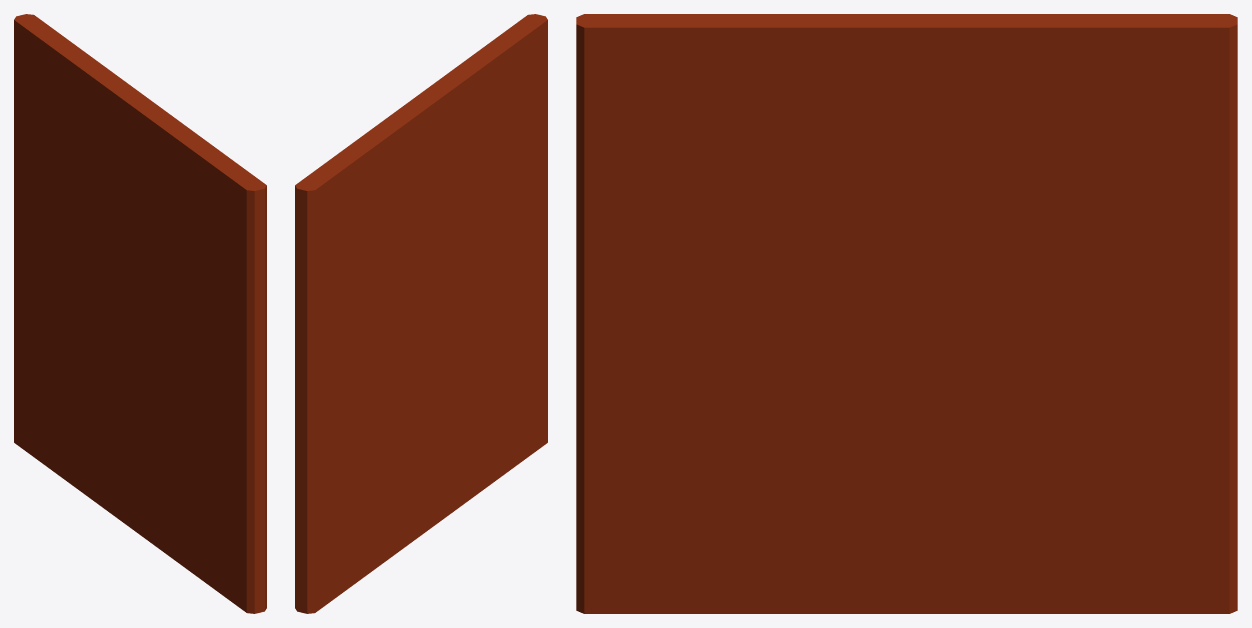
The model's file is Wall_2_1.fbx.
The picture shows the model from 3 angles, left to right: view 1: azimuth 30°, elevation 25°; view 2: azimuth 150°, elevation 25°; view 3: azimuth 270°, elevation 25°; orthographic projection. The views are drawn at different scales.
Visible parts, largest first — view 1: Wall/2_1; view 2: Wall/2_1; view 3: Wall/2_1.
Part boxes in pixels (x1=…): Wall/2_1: x1=14, y1=14, x2=266, y2=613; Wall/2_1: x1=295, y1=14, x2=547, y2=613; Wall/2_1: x1=576, y1=14, x2=1237, y2=613.
Size of the model in its own units: 0.2 by 4.1 by 4.01.
